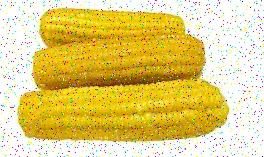corn: (14, 77, 231, 141), (33, 36, 205, 88), (39, 9, 186, 62)
